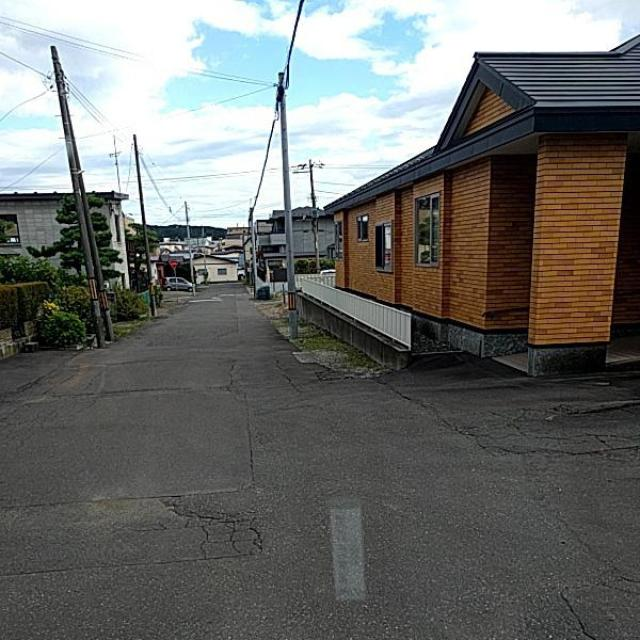Crack: (487, 453, 635, 640), (192, 367, 295, 582)
